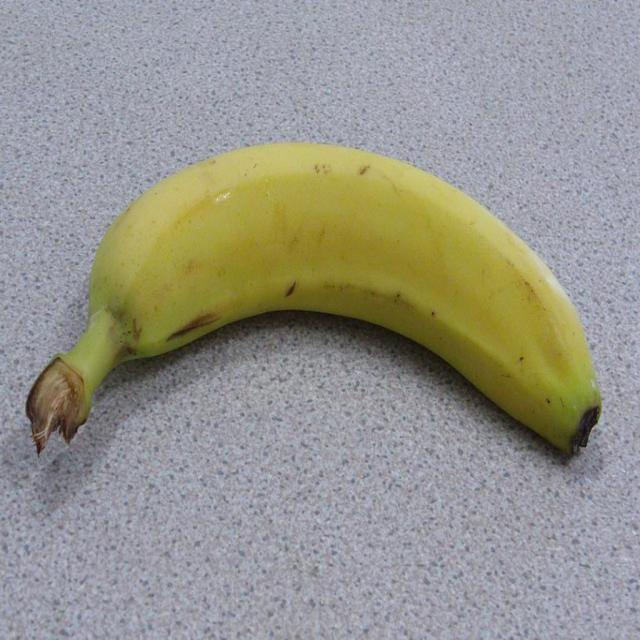banana: (24, 143, 603, 459)
